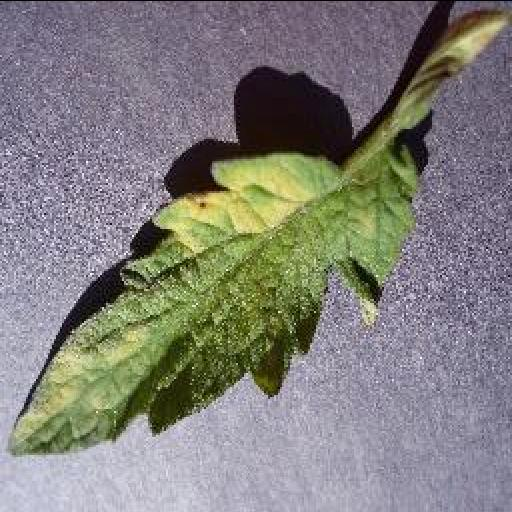disease_tomato: (4, 132, 422, 456)
